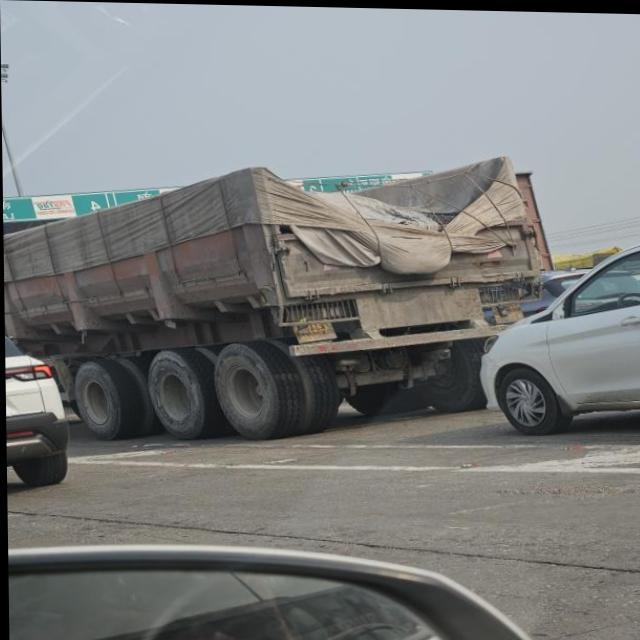covered: (49, 132, 541, 435)
